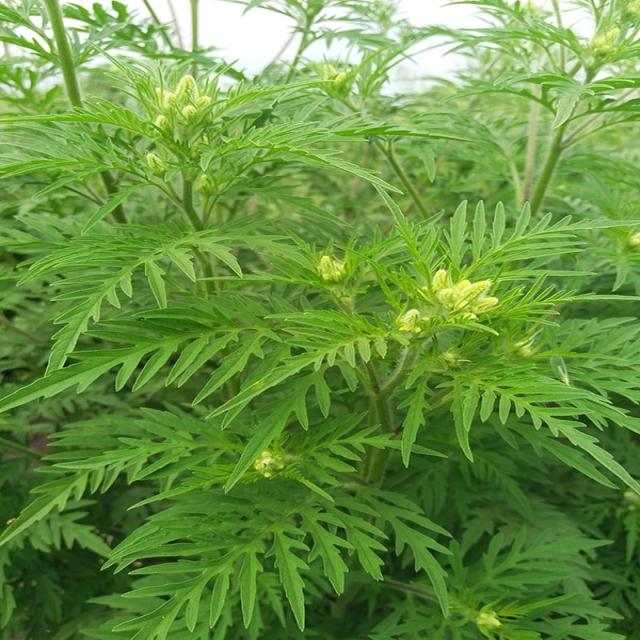ambrosia: (334, 153, 640, 478), (38, 45, 343, 288)
